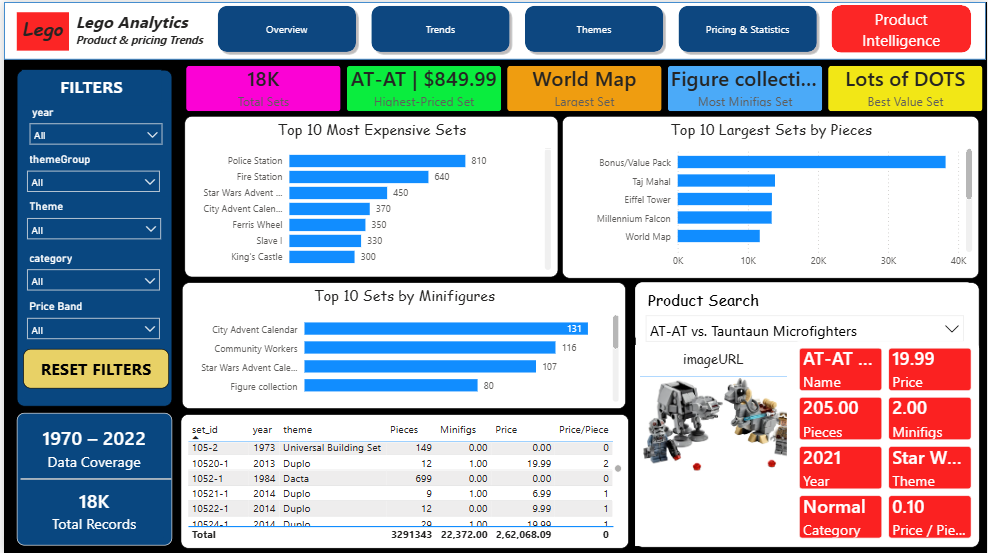

What the dashboard file says about the page in this screenshot:
{"tool":"powerbi","page":{"name":"Product Intelligence","canvas":[1280,720],"ordinal":4},"visuals":[{"type":"shape","box":[0,0,1278.3,75],"z":0},{"type":"shape","box":[821.7,365,448.3,345],"z":1000},{"type":"barChart","title":"Top 10 Most Expensive Sets","fields":{"Y":["Sum(lego_sets.US_retailPrice)"],"Category":["lego_sets.name"]},"box":[235,148.3,486.7,210],"z":2000},{"type":"barChart","title":"Top 10 Largest Sets by Pieces","fields":{"Category":["lego_sets.name"],"Y":["Sum(lego_sets.pieces)"]},"box":[726.7,148.3,543.3,211.7],"z":3000},{"type":"shape","box":[17.1,88.5,202.7,438.1],"z":4000},{"type":"slicer","fields":{"Values":["lego_sets.year"]},"box":[22.8,129.9,192.7,64.2],"z":5000},{"type":"slicer","fields":{"Values":["lego_sets.category"]},"box":[20,319.7,192.7,65.6],"z":6000},{"type":"slicer","fields":{"Values":["lego_sets.themeGroup"]},"box":[20,191.2,192.7,64.2],"z":7000},{"type":"slicer","fields":{"Values":["lego_sets.theme"]},"box":[20,254,194.1,72.8],"z":8000},{"type":"textbox","box":[22.9,88.6,181.4,45.7],"z":9000},{"type":"actionButton","title":"RESET FILTRRS","box":[24.5,451.3,190.1,51.5],"z":10000},{"type":"cardVisual","fields":{"Data":["lego_sets.Total Sets","lego_sets.Highest-Priced Set","lego_sets.Largest Set","lego_sets.Most Minifigs Set","lego_sets.Best Value Set"]},"box":[233.3,78.3,1046.7,70],"z":11000},{"type":"cardVisual","fields":{"Data":["lego_sets.Data Coverage","lego_sets.Total Records"]},"box":[17.2,534.6,202.3,172.9],"z":12000},{"type":"shape","box":[22.1,556.7,196.2,128.8],"z":13000},{"type":"slicer","fields":{"Values":["lego_sets.Price Band"]},"box":[20,383.9,192.7,65.6],"z":14000},{"type":"barChart","title":"Top 10 Sets by Minifigures","fields":{"Category":["lego_sets.name"],"Y":["Sum(lego_sets.minifigs)"]},"box":[231.7,365,578.3,165],"z":15000},{"type":"tableEx","fields":{"Values":["lego_sets.set_id","lego_sets.year","lego_sets.theme","Sum(lego_sets.pieces)","Sum(lego_sets.minifigs)","Sum(lego_sets.US_retailPrice)","lego_sets.Price Per Piece"]},"box":[230,536.7,583.3,175],"z":16000},{"type":"slicer","fields":{"Values":["lego_sets.name"]},"box":[821.7,365,441.7,78.3],"z":17000},{"type":"cardVisual","fields":{"Data":["lego_sets.Selected Product","lego_sets.Selected Product Price","lego_sets.Selected Product Pieces","lego_sets.Selected Product Minifigs","lego_sets.Selected Product Year","lego_sets.Selected Product Theme","lego_sets.Selected Product Category","lego_sets.Selected Price Per Piece"]},"box":[1026.7,441.7,243.3,266.7],"z":18000},{"type":"tableEx","fields":{"Values":["lego_sets.imageURL"]},"box":[821.7,446.7,213.3,261.7],"z":19000},{"type":"pageNavigator","box":[273.3,0,990,70],"z":20000},{"type":"textbox","box":[88.3,6.7,188.3,63.3],"z":22001},{"type":"textbox","box":[16.7,13.3,68.3,50],"z":22501}]}

Visuals, with their boxes in screenshot pixels (x1, y1, x2, y2), scaled from the page's 1280x720 canvas onto the 988x553 screenshot:
shape: box(0, 0, 987, 58)
shape: box(634, 280, 980, 545)
"Top 10 Most Expensive Sets" barChart: box(181, 114, 557, 275)
"Top 10 Largest Sets by Pieces" barChart: box(561, 114, 980, 276)
shape: box(13, 68, 170, 404)
slicer - lego_sets.year: box(18, 100, 166, 149)
slicer - lego_sets.category: box(15, 246, 164, 296)
slicer - lego_sets.themeGroup: box(15, 147, 164, 196)
slicer - lego_sets.theme: box(15, 195, 165, 251)
textbox: box(18, 68, 158, 103)
"RESET FILTRRS" actionButton: box(19, 347, 166, 386)
cardVisual - lego_sets.Total Sets x lego_sets.Highest-Priced Set: box(180, 60, 987, 114)
cardVisual - lego_sets.Data Coverage x lego_sets.Total Records: box(13, 411, 169, 543)
shape: box(17, 428, 169, 527)
slicer - lego_sets.Price Band: box(15, 295, 164, 345)
"Top 10 Sets by Minifigures" barChart: box(179, 280, 625, 407)
tableEx - lego_sets.set_id x lego_sets.year: box(178, 412, 628, 547)
slicer - lego_sets.name: box(634, 280, 975, 340)
cardVisual - lego_sets.Selected Product x lego_sets.Selected Product Price: box(792, 339, 980, 544)
tableEx - lego_sets.imageURL: box(634, 343, 799, 544)
pageNavigator: box(211, 0, 975, 54)
textbox: box(68, 5, 214, 54)
textbox: box(13, 10, 66, 49)
